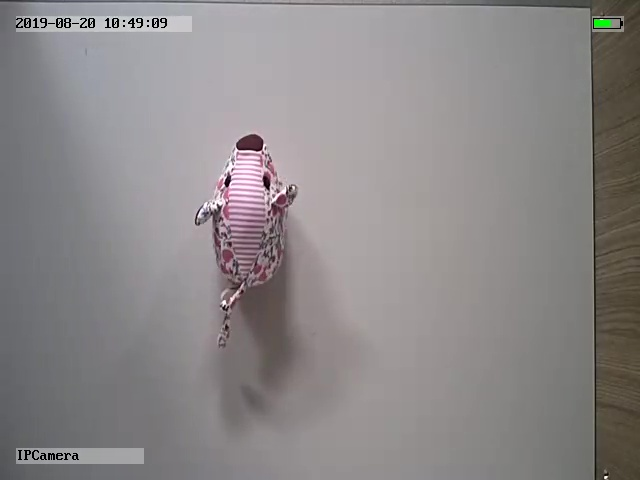pig: (194, 133, 297, 350)
